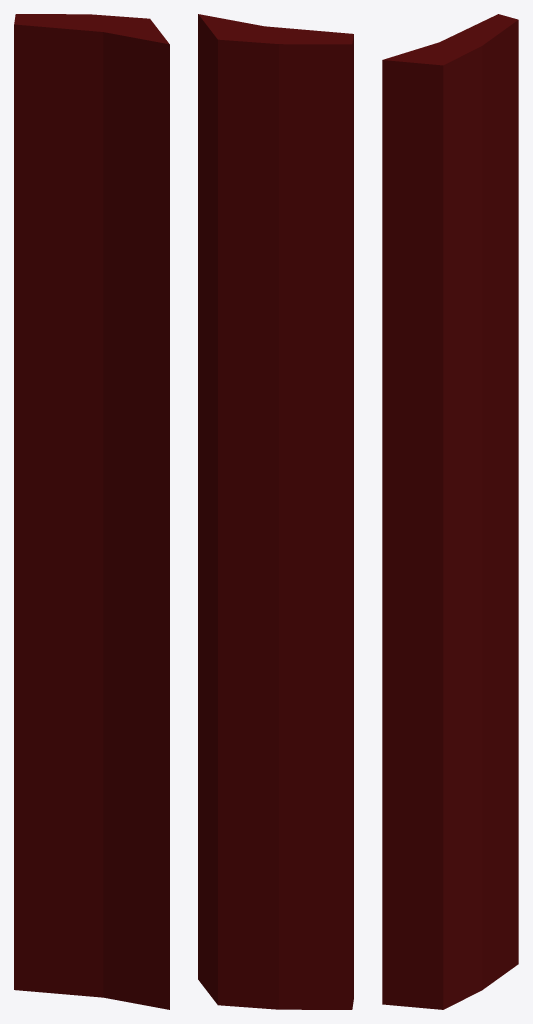
Rendered from remplace_building.fbx.
3 views of the same model, side by side, from view 1: azimuth 30°, elevation 25°; view 2: azimuth 210°, elevation 25°; view 3: azimuth 270°, elevation 25° (orthographic). The views are drawn at different scales.
Parts seen in each view (by area): view 1: M_Buildings_Third_Floor.043; view 2: M_Buildings_Third_Floor.043; view 3: M_Buildings_Third_Floor.043.
Part boxes in pixels (bbox=[...]): M_Buildings_Third_Floor.043: bbox=[14, 14, 169, 1009]; M_Buildings_Third_Floor.043: bbox=[198, 14, 353, 1009]; M_Buildings_Third_Floor.043: bbox=[382, 14, 518, 1009].
Bounding box in the file's own units: 27.72 × 31.02 × 237.
